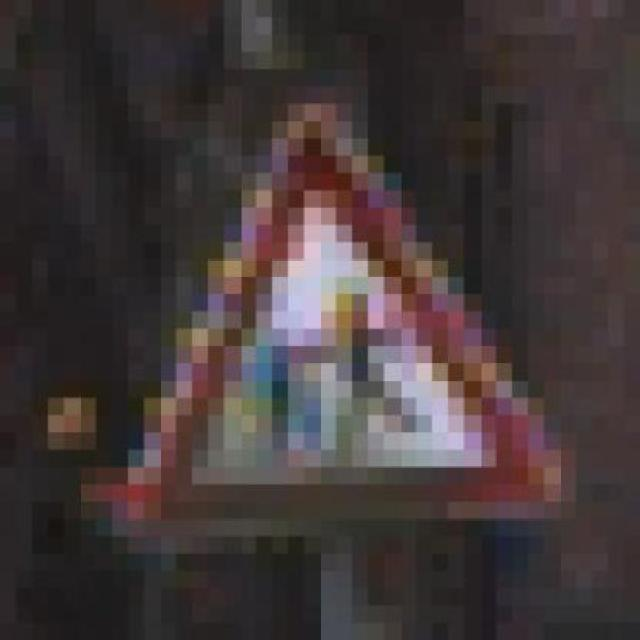Beware of children: (99, 69, 564, 571)
